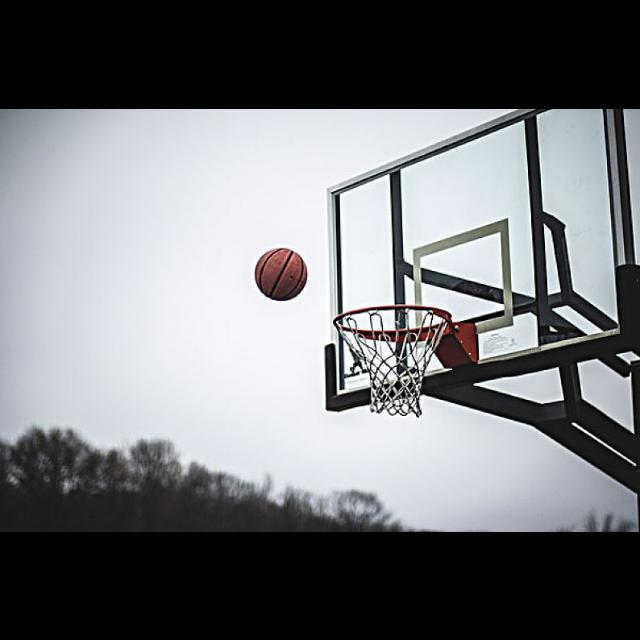basketball: (256, 247, 308, 299)
rim: (334, 303, 452, 415)
